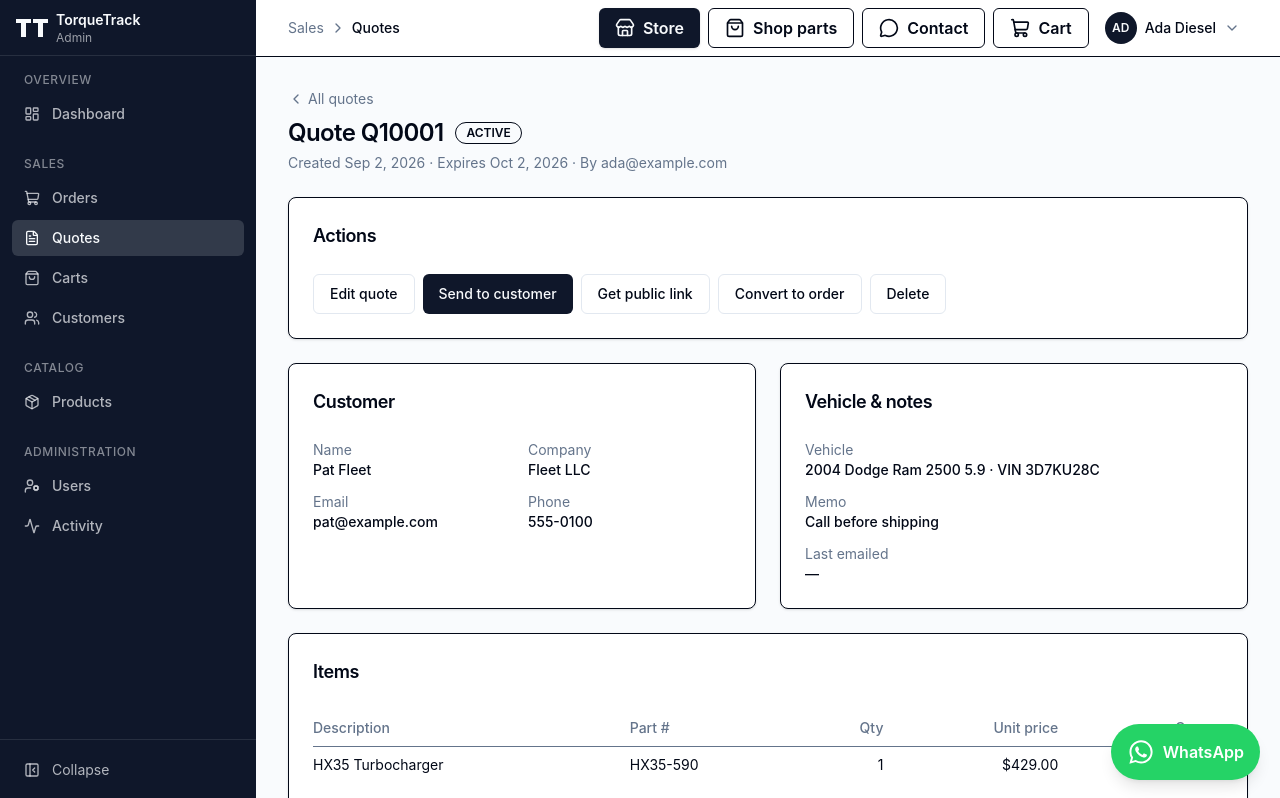
QuoteDetailPage › deletes after confirmation and goes back to the list
The image size is (1280, 798).
Click the button "Delete". click: [908, 294]
box: [870,274,946,314]
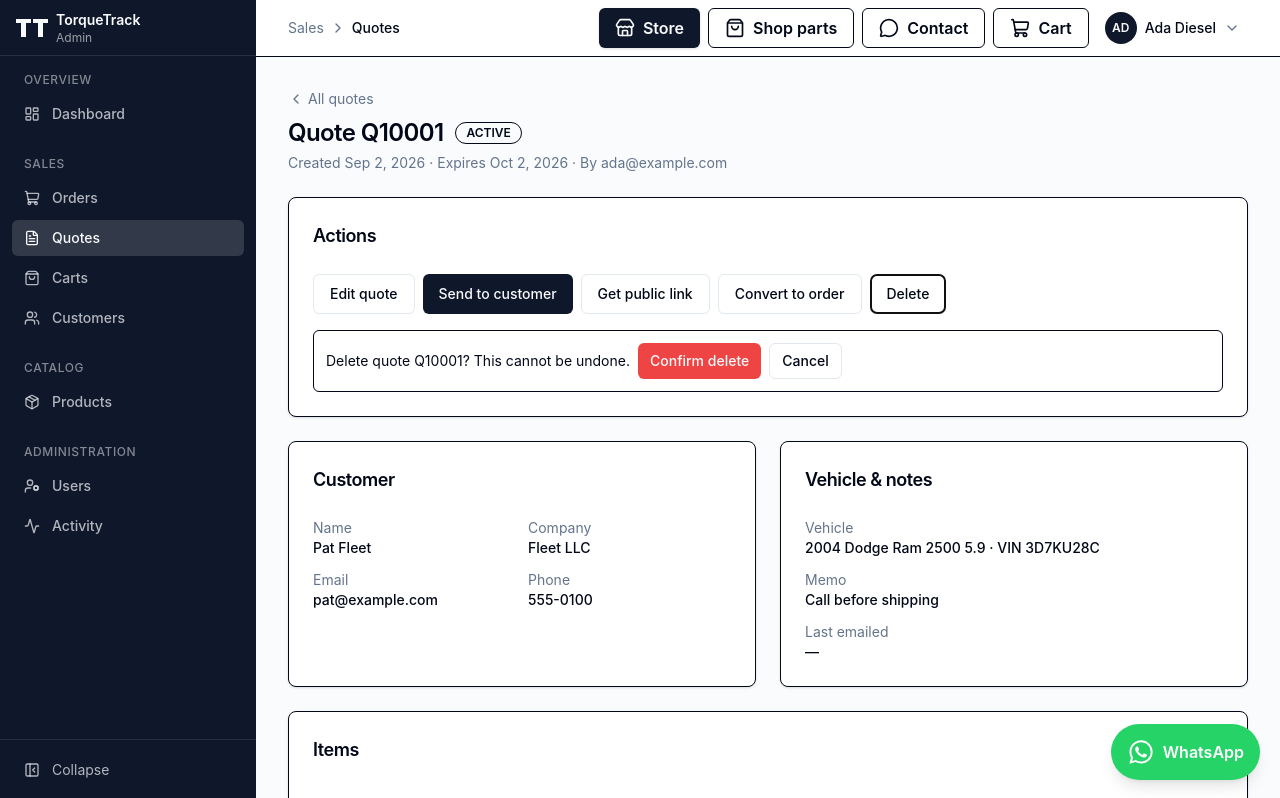
Click the button "Confirm delete". click: [700, 361]
box: [638,343,761,379]
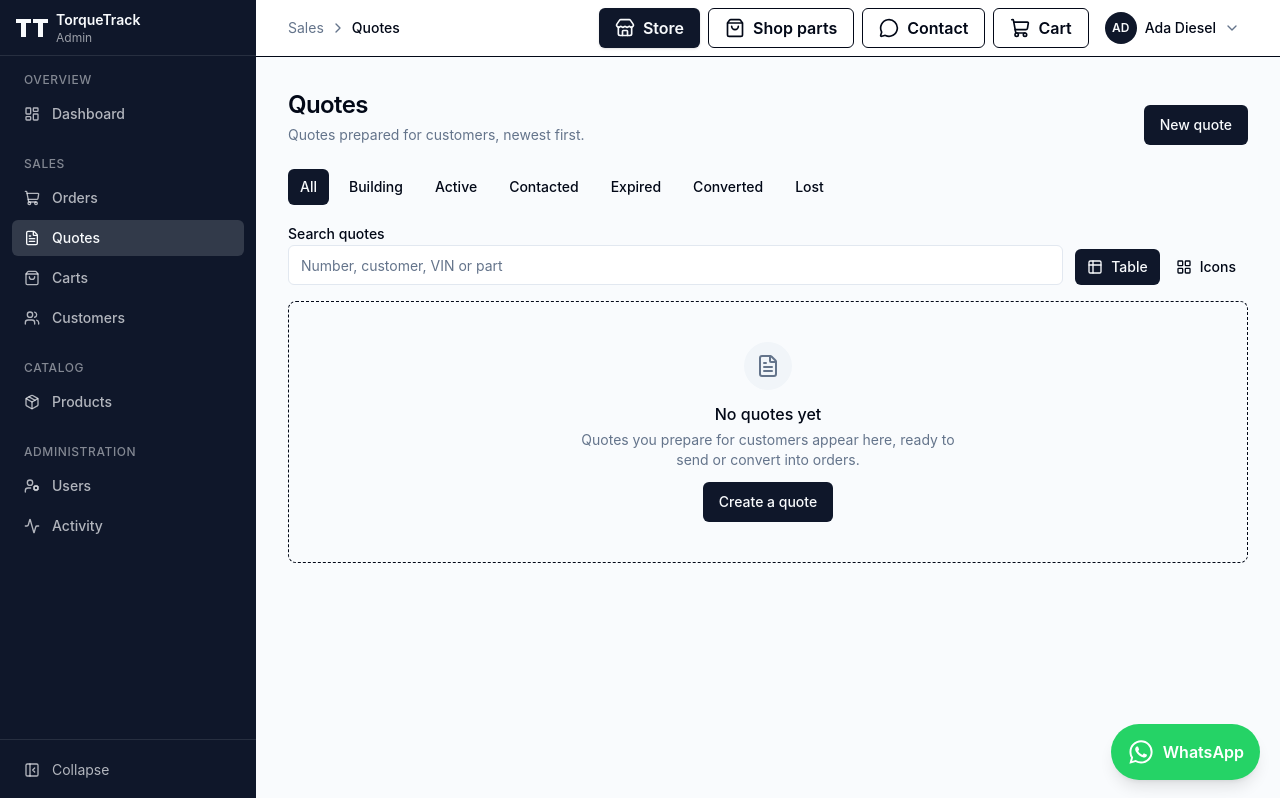
Expected: the heading "Quotes" is shown, [288,89,368,121]
